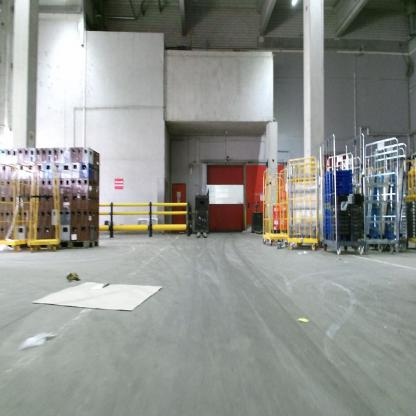pallet: (54, 236, 99, 253), (28, 238, 60, 253)
pallet_truck: (193, 188, 211, 239), (250, 199, 267, 233)
